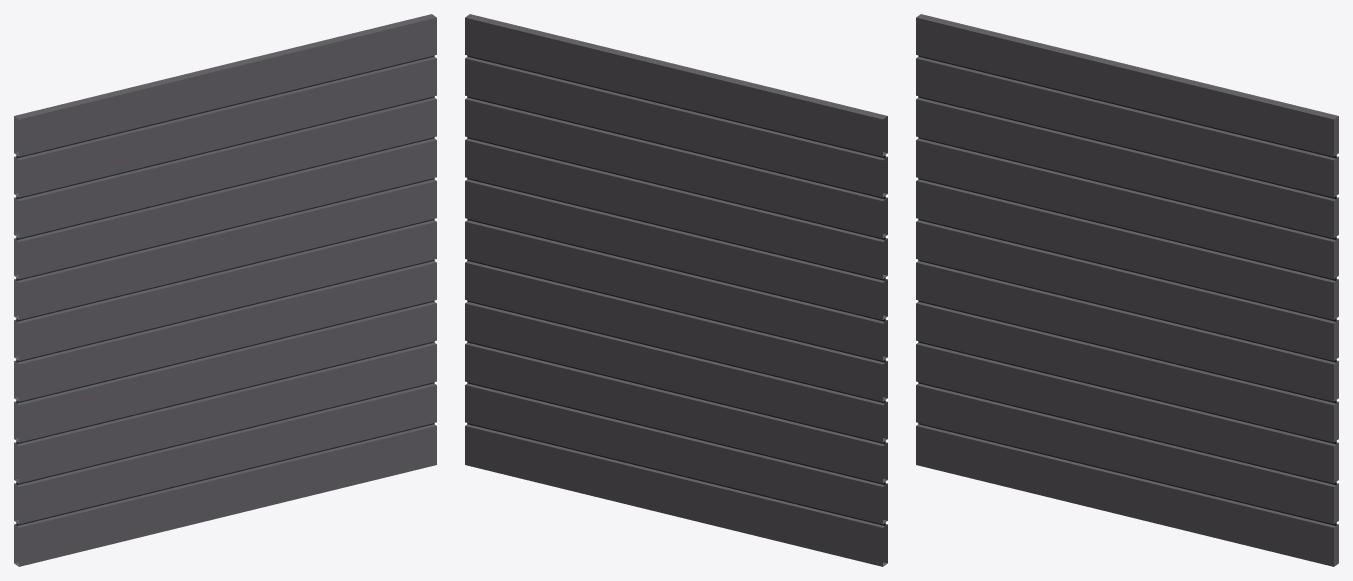
The model's file is SM_Buildings_Factory_01_Gate.fbx.
3 views of the same model, side by side, from view 1: azimuth 30°, elevation 25°; view 2: azimuth 150°, elevation 25°; view 3: azimuth 330°, elevation 25° (orthographic).
Visible parts, largest first — view 1: SM_Buildings_Factory_01_Gate; view 2: SM_Buildings_Factory_01_Gate; view 3: SM_Buildings_Factory_01_Gate.
Part boxes in pixels (left/top/right/bottom): SM_Buildings_Factory_01_Gate: left=14, top=14, right=436, bottom=566; SM_Buildings_Factory_01_Gate: left=465, top=14, right=887, bottom=566; SM_Buildings_Factory_01_Gate: left=916, top=14, right=1338, bottom=566.
Bounding box in the file's own units: 3.67 × 3.75 × 0.0746.
